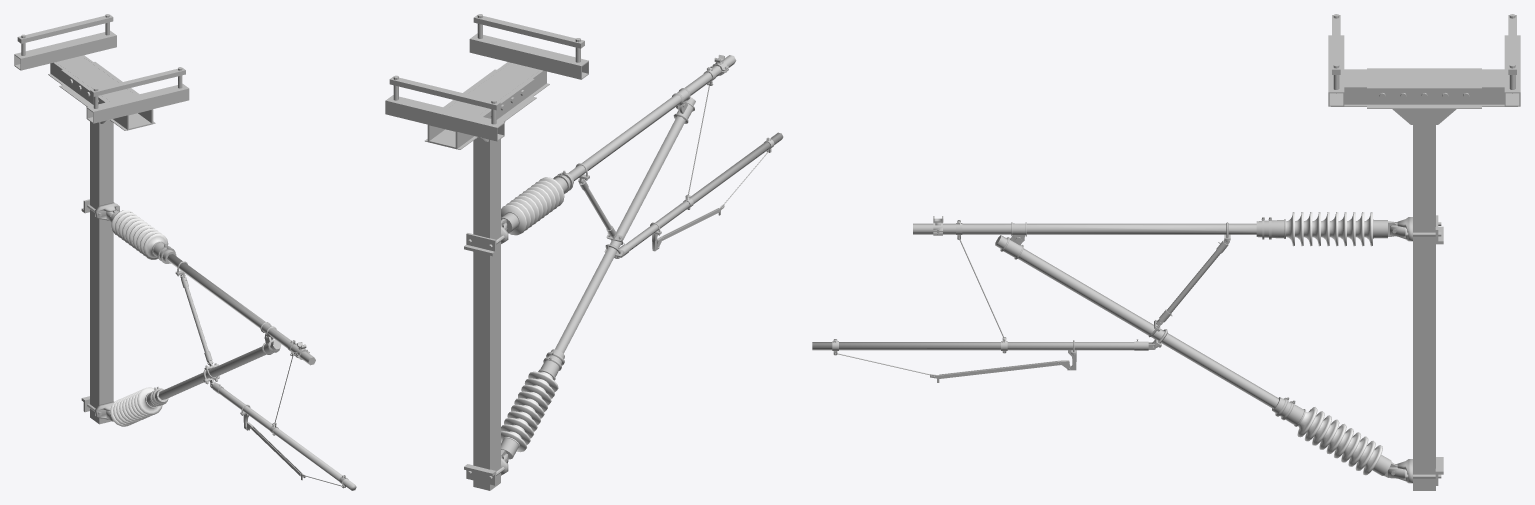
The model's file is gantry_single_positive.obj.
The picture shows the model from 3 angles, left to right: view 1: azimuth 30°, elevation 25°; view 2: azimuth 150°, elevation 25°; view 3: azimuth 270°, elevation 25°; orthographic projection. The views are drawn at different scales.
Visible parts, largest first — view 1: 立方体.369, 1.011, 1.008, 立方体.175, 立方体.173, 立方体.168, 立方体.165, 立方体.174, 立方体.176, 1.010, 立方体.166; view 2: 立方体.369, 1.011, 1.008, 立方体.173, 立方体.175, 立方体.168, 立方体.165, 立方体.174, 立方体.176, 立方体.166, 1.010, 立方体.061 (+1 smaller); view 3: 1.011, 立方体.369, 1.008, 立方体.168, 立方体.165, 1.010, 立方体.173, 立方体.175.
Boxes of the visible parts, x1,y1,x2,y2 form: 立方体.369: [90, 120, 113, 424]; 1.011: [109, 210, 356, 490]; 1.008: [110, 210, 168, 426]; 立方体.175: [86, 83, 189, 123]; 立方体.173: [14, 30, 116, 70]; 立方体.168: [53, 55, 139, 102]; 立方体.165: [50, 63, 153, 130]; 立方体.174: [17, 15, 113, 43]; 立方体.176: [90, 68, 185, 96]; 1.010: [240, 404, 348, 488]; 立方体.166: [48, 73, 155, 130]; 立方体.369: [473, 137, 500, 490]; 1.011: [501, 55, 783, 461]; 1.008: [501, 177, 564, 452]; 立方体.173: [385, 95, 504, 141]; 立方体.175: [469, 33, 588, 79]; 立方体.168: [443, 62, 543, 116]; 立方体.165: [427, 71, 546, 149]; 立方体.174: [389, 76, 500, 110]; 立方体.176: [473, 15, 584, 48]; 立方体.166: [425, 83, 549, 149]; 1.010: [650, 137, 774, 251]; 立方体.061: [464, 233, 496, 256]; 1.011: [812, 216, 1397, 477]; 立方体.369: [1413, 109, 1435, 490]; 1.008: [1286, 212, 1382, 475]; 立方体.168: [1344, 68, 1504, 88]; 立方体.165: [1344, 88, 1504, 104]; 1.010: [832, 339, 1076, 382]; 立方体.173: [1504, 35, 1520, 106]; 立方体.175: [1328, 35, 1344, 106].
Size of the model in its own units: 0.9365 by 3.42 by 4.91.
